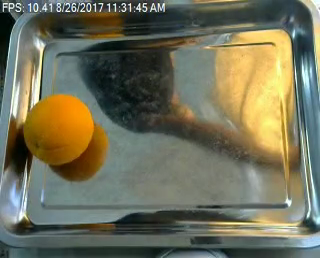Orange: (22, 93, 93, 164)
